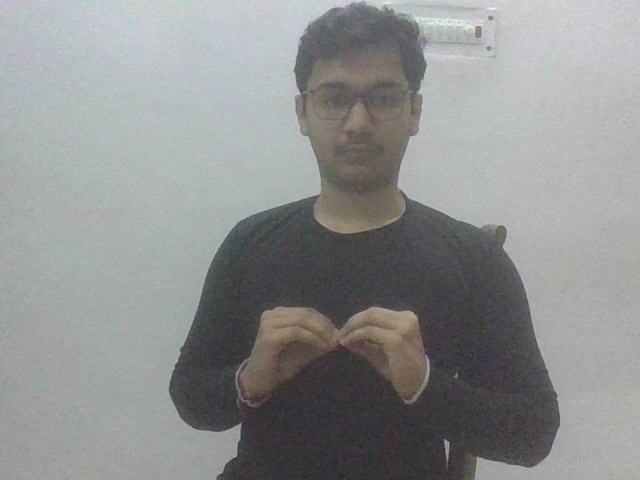B: (240, 300, 430, 402)
